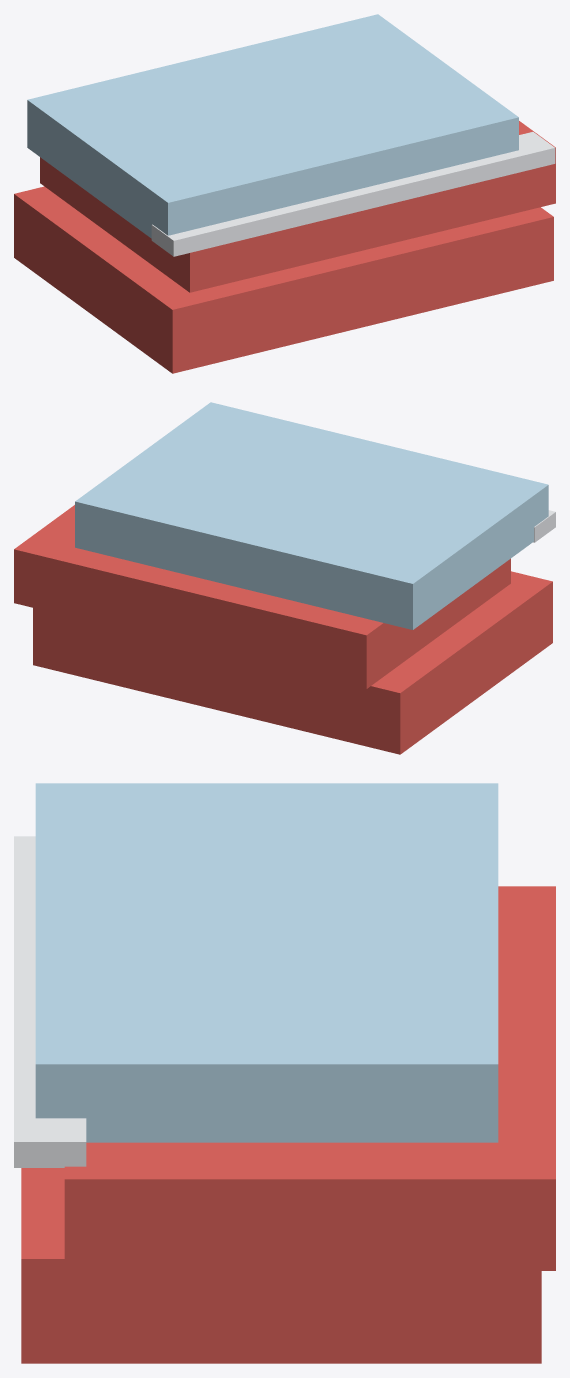
Rendered from ski-resort-and-snow-park-folded-blanket-2697431f__26035.glb.
3 views of the same model, one above another, from view 1: azimuth 30°, elevation 25°; view 2: azimuth 150°, elevation 25°; view 3: azimuth 270°, elevation 25° (orthographic). The views are drawn at different scales.
Visible parts, largest first — view 1: folded-blanket; view 2: folded-blanket; view 3: folded-blanket.
Part boxes in pixels (x1,y1,x2,y2): folded-blanket: (14,14,555,373); folded-blanket: (14,402,555,754); folded-blanket: (14,783,555,1363).
Bounding box in the file's own units: 0.5212 × 0.21 × 0.375.
